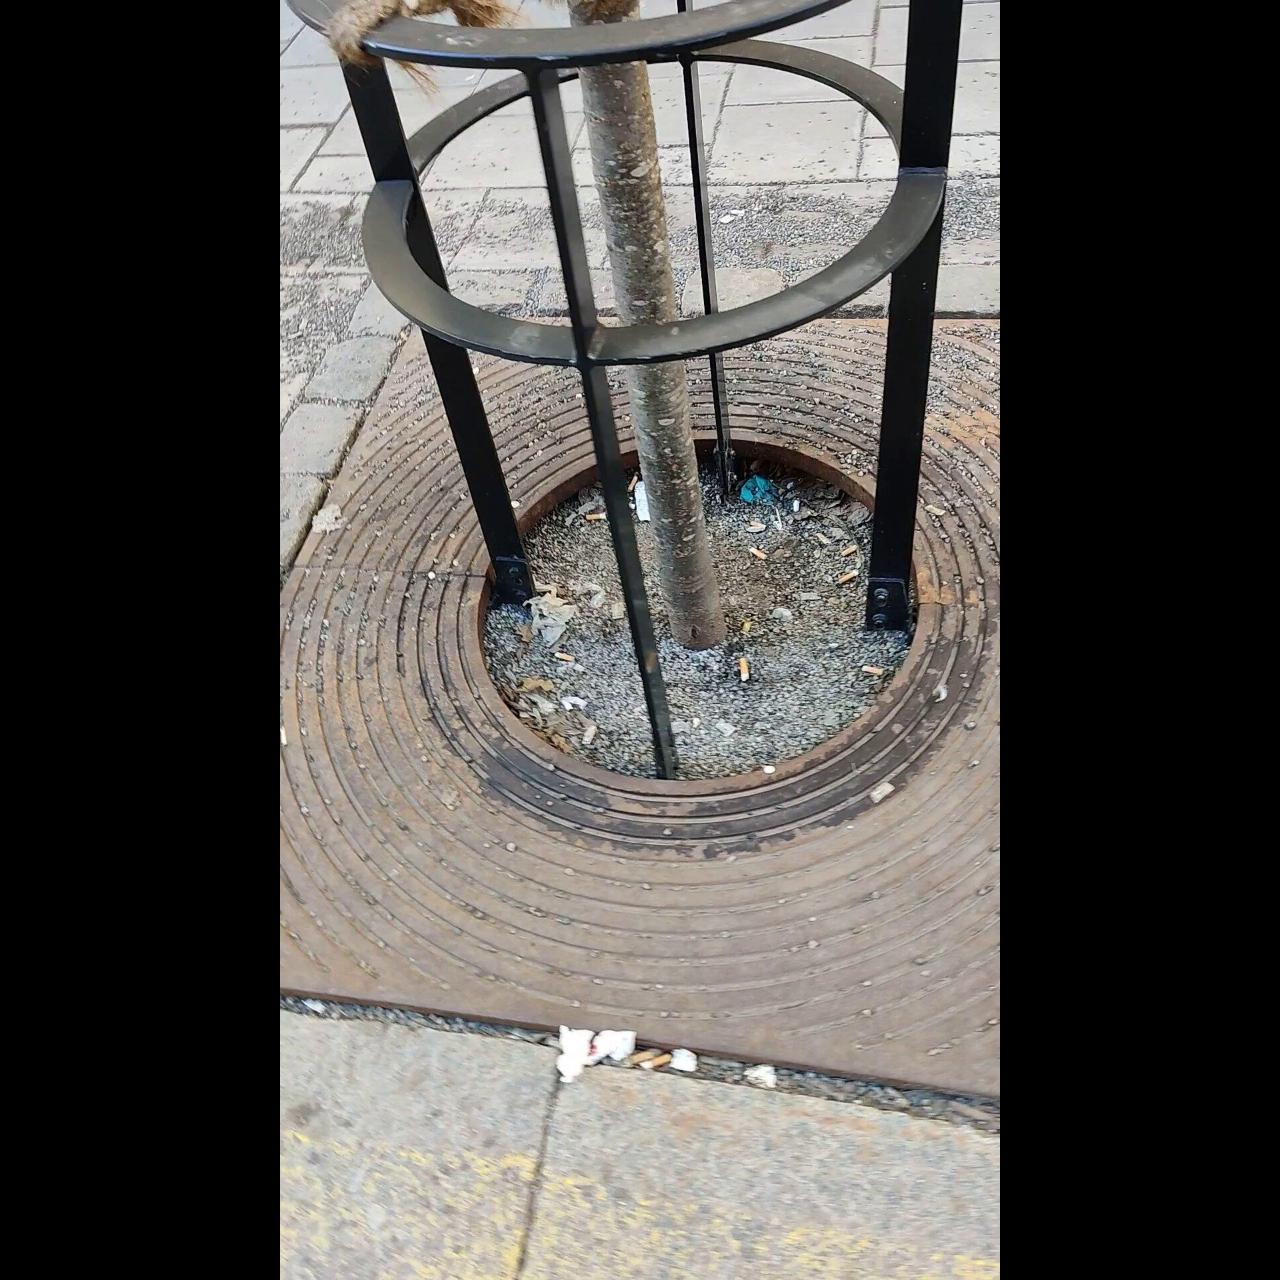cigarettes_butts: (644, 1051, 673, 1074), (633, 1046, 653, 1068), (837, 570, 859, 584), (553, 649, 574, 663), (584, 510, 606, 522), (750, 547, 768, 560), (860, 665, 881, 675), (742, 660, 754, 678), (629, 475, 639, 493), (844, 547, 856, 558)
others: (870, 782, 894, 804), (585, 727, 597, 745), (613, 601, 624, 619), (742, 622, 753, 634)
